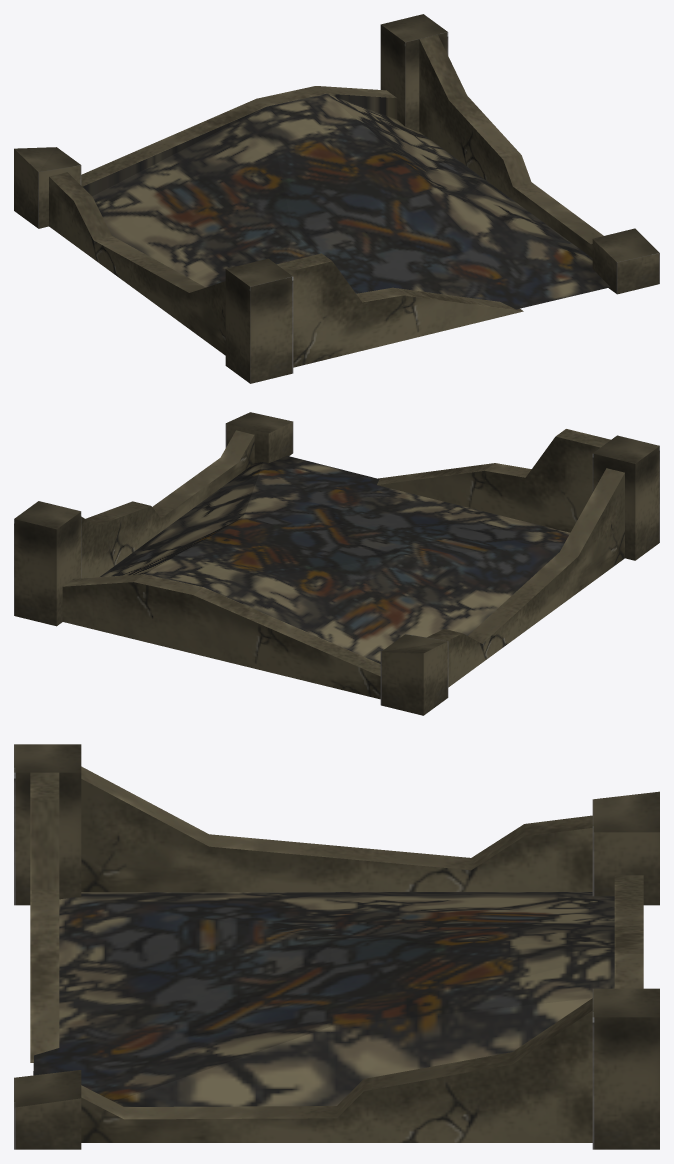
Rendered from Building03_floor1.FBX.
3 renders of one model, top to bottom at view 1: azimuth 30°, elevation 25°; view 2: azimuth 150°, elevation 25°; view 3: azimuth 270°, elevation 25°, orthographic. The views are drawn at different scales.
Parts seen in each view (by area): view 1: floor1; view 2: floor1; view 3: floor1.
Part boxes in pixels (x1,y1,x2,y2): floor1: [14, 14, 659, 383]; floor1: [14, 412, 659, 715]; floor1: [14, 744, 659, 1149].
Size of the model in its own units: 8.84 by 2 by 8.84.
